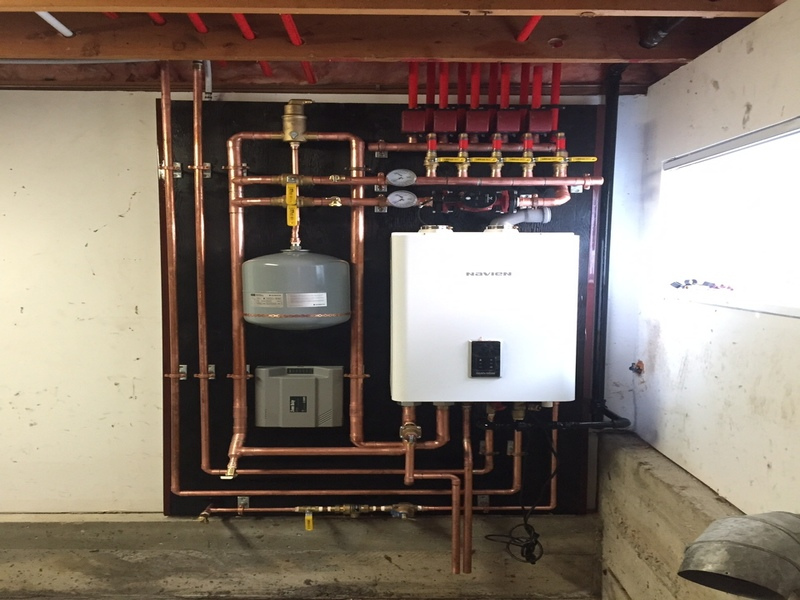valve: (277, 191, 308, 234), (418, 147, 471, 172), (546, 151, 603, 174), (454, 148, 500, 172), (487, 151, 535, 173), (518, 152, 568, 173), (293, 496, 322, 531), (281, 170, 304, 206)
